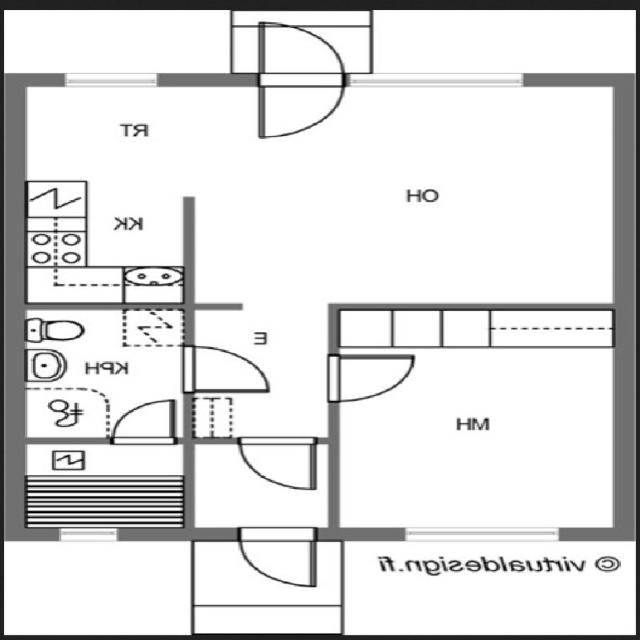door: (254, 78, 346, 142), (232, 528, 321, 592), (260, 24, 356, 81), (180, 340, 272, 395), (234, 436, 320, 492), (326, 355, 414, 405), (104, 395, 181, 448)
window: (344, 69, 530, 93), (398, 522, 568, 542), (55, 68, 166, 91), (47, 524, 128, 548)
zone: (196, 80, 616, 311), (327, 307, 624, 536), (13, 80, 191, 300), (331, 535, 635, 637), (17, 304, 187, 440), (17, 438, 187, 532), (178, 330, 276, 404)
